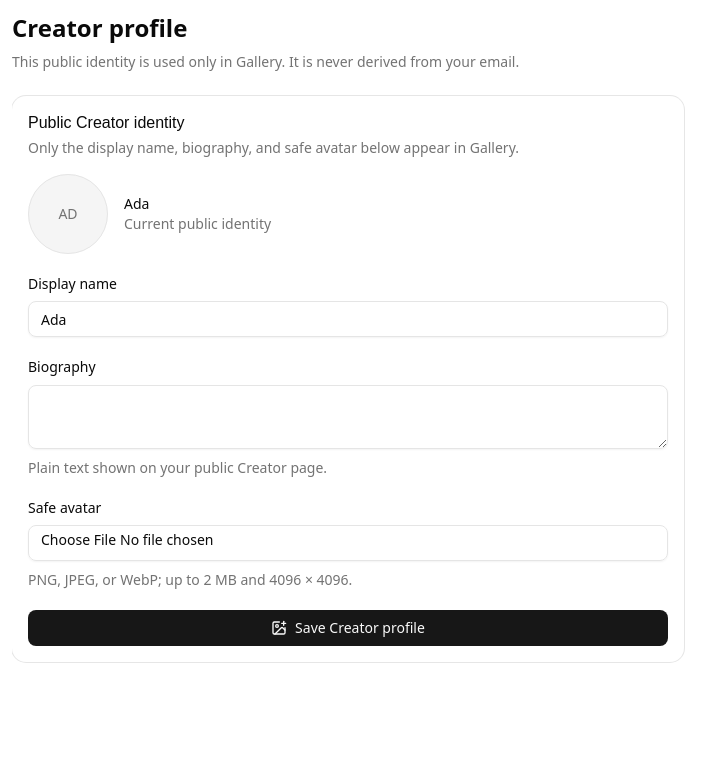
Test: GalleryProfilePage › presents a revision failure without claiming success
The image size is (702, 764).
Click the button "Save Creator profile" at (348, 628), box left=28, top=610, right=668, bottom=646
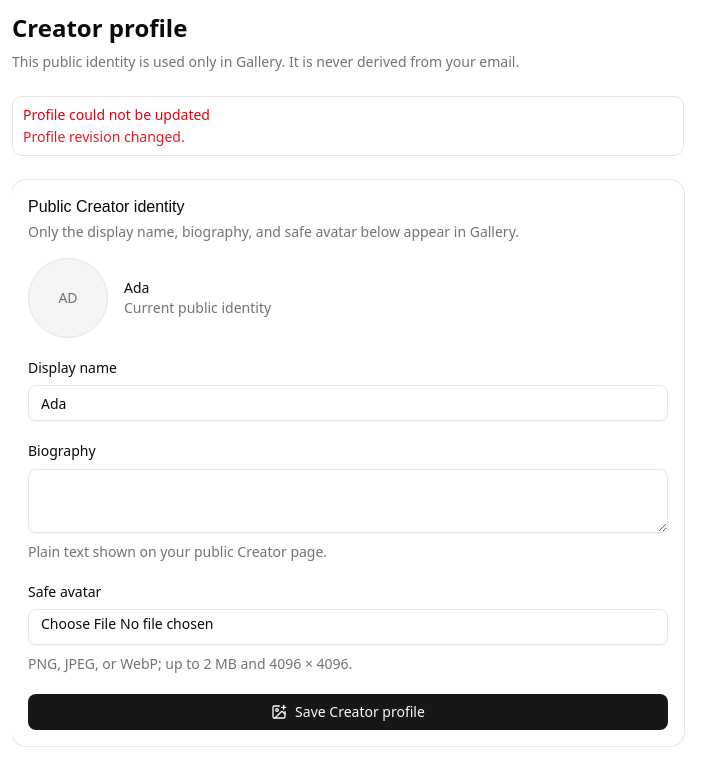
Expected: the text "Profile revision changed." is shown, left=23, top=127, right=185, bottom=146
